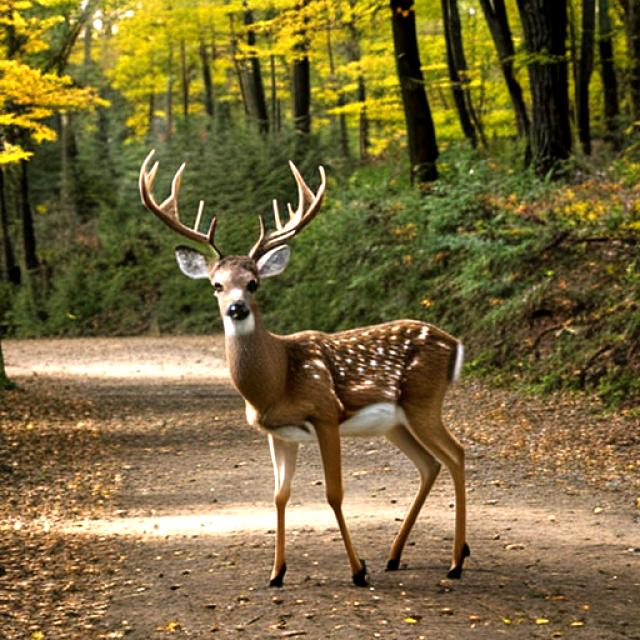deer: (119, 132, 516, 594)
